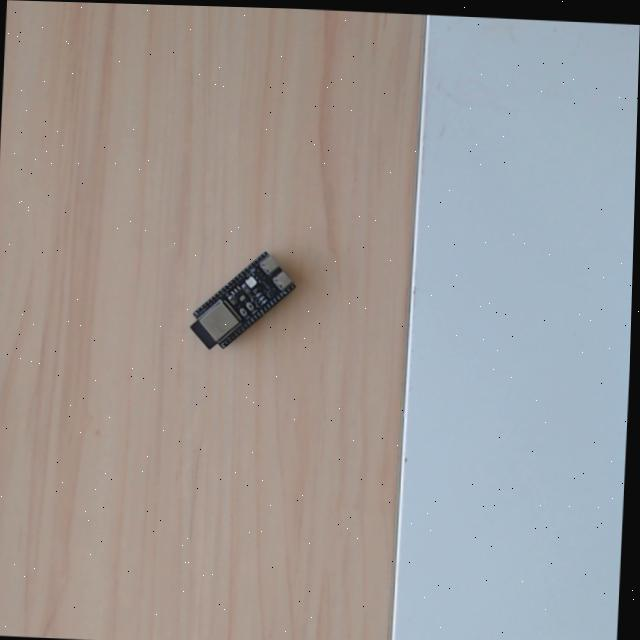ESP32S3-Devkit: (179, 248, 296, 359)
